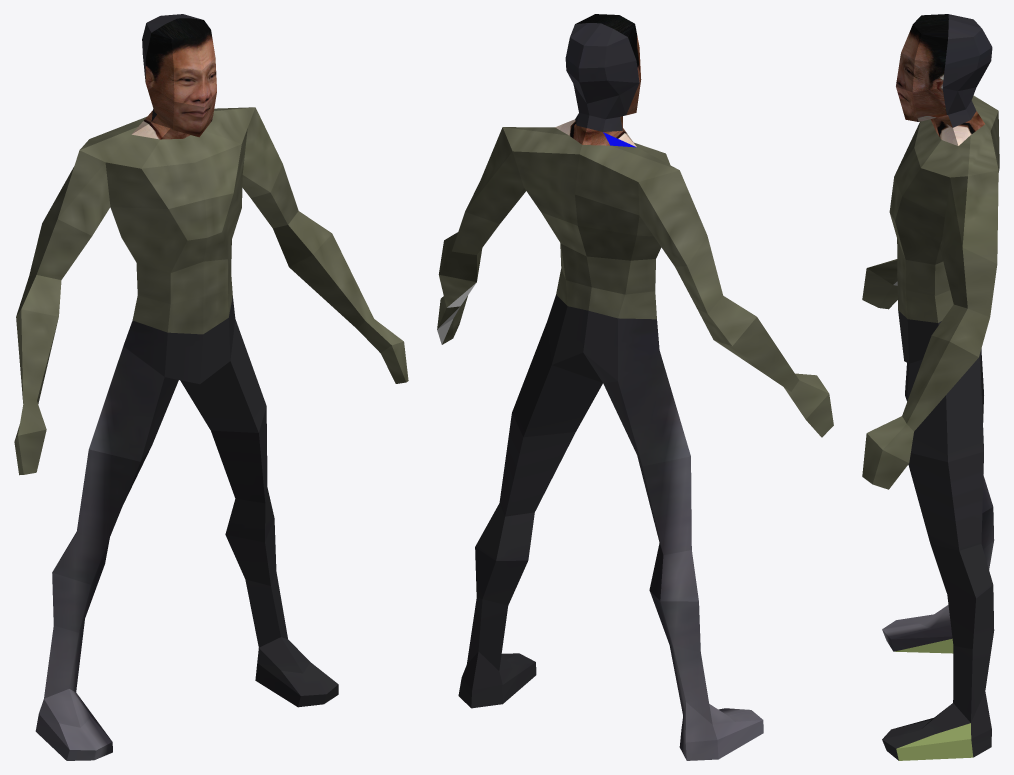
The picture shows the model from 3 angles, left to right: view 1: azimuth 30°, elevation 25°; view 2: azimuth 150°, elevation 25°; view 3: azimuth 270°, elevation 25°; orthographic projection. The views are drawn at different scales.
Visible parts, largest first — view 1: BASE_Low_Poly_Man_Cube.001; view 2: BASE_Low_Poly_Man_Cube.001; view 3: BASE_Low_Poly_Man_Cube.001.
Part boxes in pixels (box(x1,y1,x2,y2)): BASE_Low_Poly_Man_Cube.001: box(14, 14, 408, 760); BASE_Low_Poly_Man_Cube.001: box(437, 14, 833, 760); BASE_Low_Poly_Man_Cube.001: box(862, 14, 999, 760).
Size of the model in its own units: 317 by 542 by 99.74.
